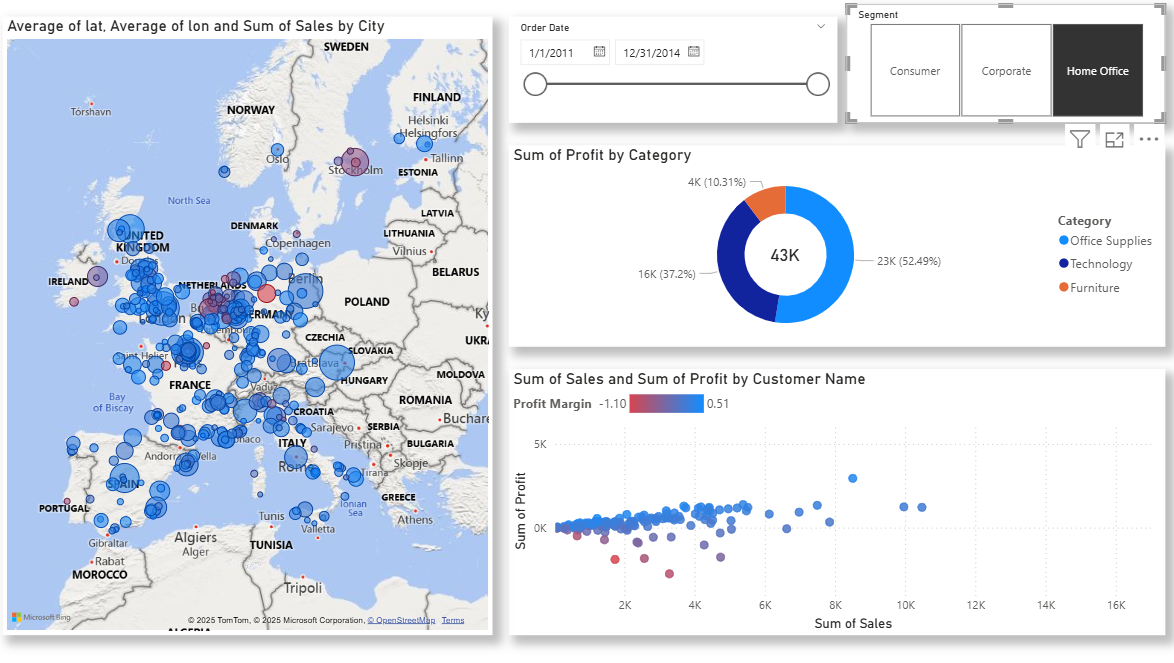

What the dashboard file says about the page in this screenshot:
{"tool":"powerbi","page":{"name":"Duplicate of Page 3","canvas":[1280,720],"ordinal":0},"visuals":[{"type":"scatterChart","fields":{"X":["Sum(OrderBreakdown.Sales)"],"Y":["Sum(OrderBreakdown.Profit)"],"Category":["ListOfOrders.Customer Name"]},"box":[558.1,403.4,706,286.4],"z":0},{"type":"map","fields":{"Category":["ListOfOrders.Geography.Country","ListOfOrders.Geography.State","ListOfOrders.Geography.City"],"Y":["Avg(ListOfOrders.lat)"],"X":["Avg(ListOfOrders.lon)"],"Size":["Sum(OrderBreakdown.Sales)"]},"box":[13.4,24.2,527.2,665.7],"z":1000},{"type":"slicer","fields":{"Values":["ListOfOrders.Order Date"]},"box":[558.1,24.2,353.7,114.3],"z":2000},{"type":"slicer","fields":{"Values":["ListOfOrders.Segment"]},"box":[921.2,10.8,342.9,127.8],"z":3000},{"type":"donutChart","fields":{"Y":["Sum(OrderBreakdown.Profit)"],"Category":["OrderBreakdown.Category"]},"box":[558.1,162.7,706,216.5],"z":4000},{"type":"card","fields":{"Values":["Sum(OrderBreakdown.Profit)"]},"box":[820.3,260.9,69.9,41.7],"z":5000}]}

Visuals, with their boxes in screenshot pixels (x1, y1, x2, y2), scaled from the page's 1280x720 canvas onto the 1174x663 screenshot:
scatterChart - Sum(OrderBreakdown.Sales) x Sum(OrderBreakdown.Profit): {"left": 512, "top": 371, "right": 1159, "bottom": 635}
map - ListOfOrders.Geography.Country x ListOfOrders.Geography.State: {"left": 12, "top": 22, "right": 496, "bottom": 635}
slicer - ListOfOrders.Order Date: {"left": 512, "top": 22, "right": 836, "bottom": 128}
slicer - ListOfOrders.Segment: {"left": 845, "top": 10, "right": 1159, "bottom": 128}
donutChart - Sum(OrderBreakdown.Profit) x OrderBreakdown.Category: {"left": 512, "top": 150, "right": 1159, "bottom": 349}
card - Sum(OrderBreakdown.Profit): {"left": 752, "top": 240, "right": 816, "bottom": 279}
